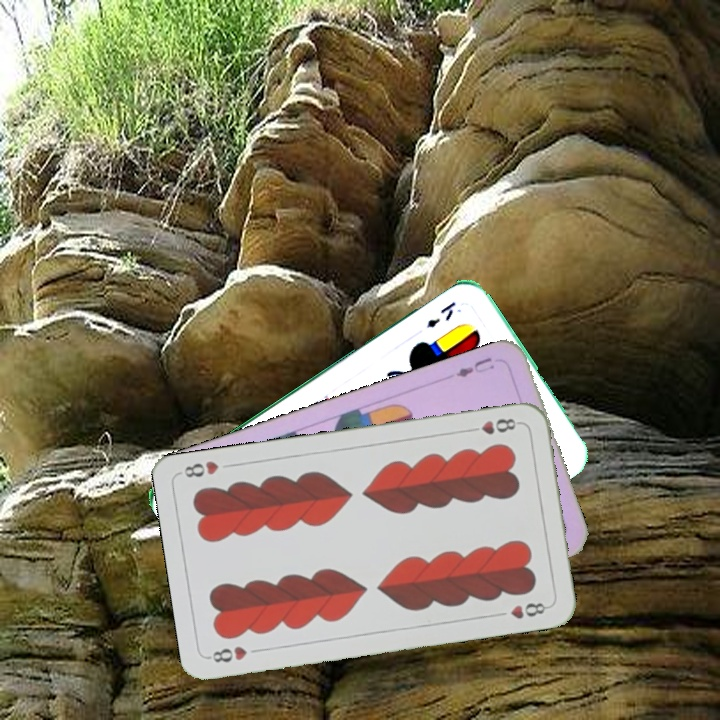EK: (422, 297, 459, 331)
EU: (452, 353, 497, 380)
H8: (464, 414, 523, 437), (205, 642, 250, 665)
